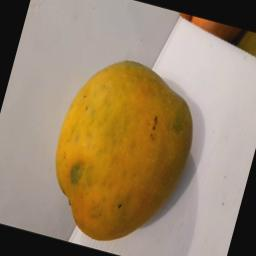Mango Ripe: (23, 34, 216, 256)
